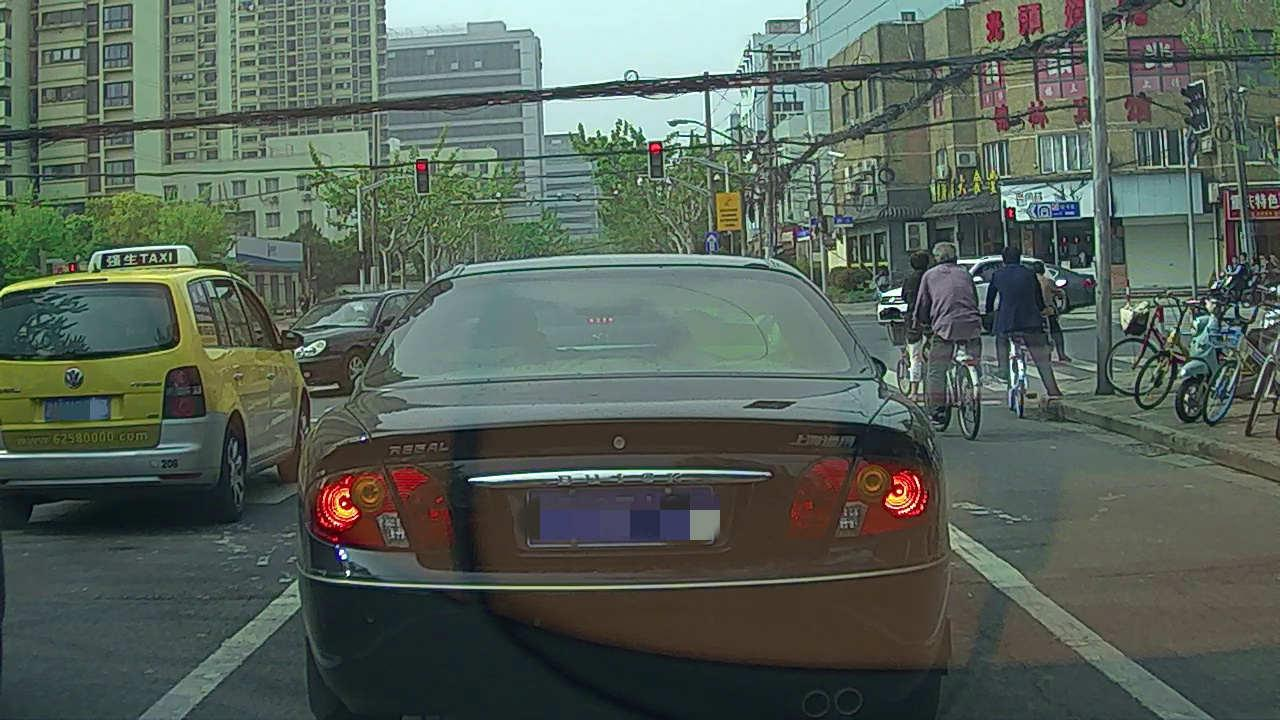traffic_light: (649, 141, 663, 178), (416, 159, 429, 194)
